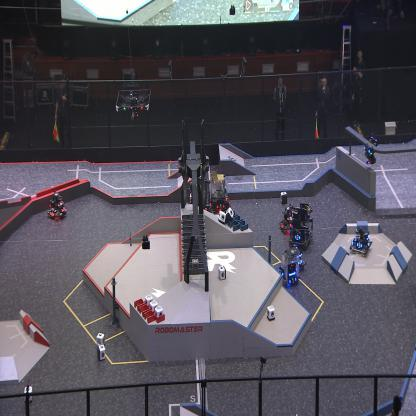car: (206, 167, 231, 215), (289, 201, 313, 249), (186, 176, 212, 216), (276, 246, 300, 287), (349, 226, 372, 257), (47, 192, 68, 222), (278, 203, 295, 236), (290, 246, 308, 272)
